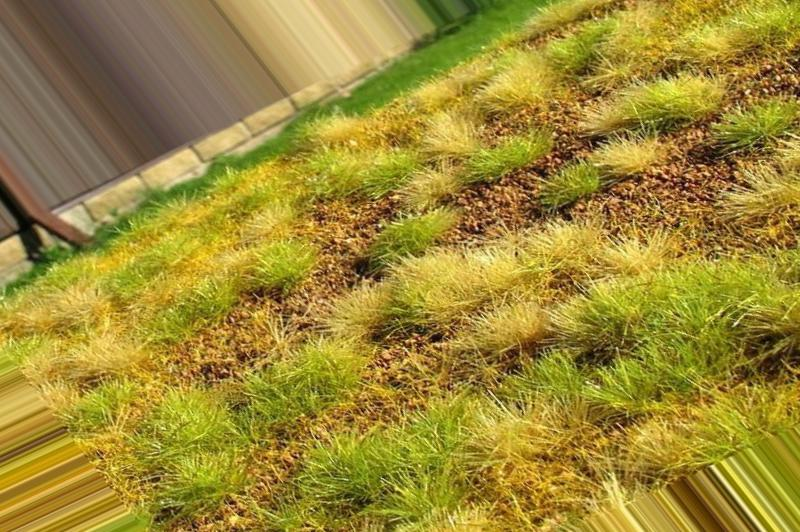patch: (387, 339, 465, 402), (510, 458, 592, 511), (610, 182, 692, 223), (689, 171, 733, 223), (243, 483, 287, 530), (466, 186, 524, 217), (648, 417, 722, 439), (309, 409, 354, 435)
